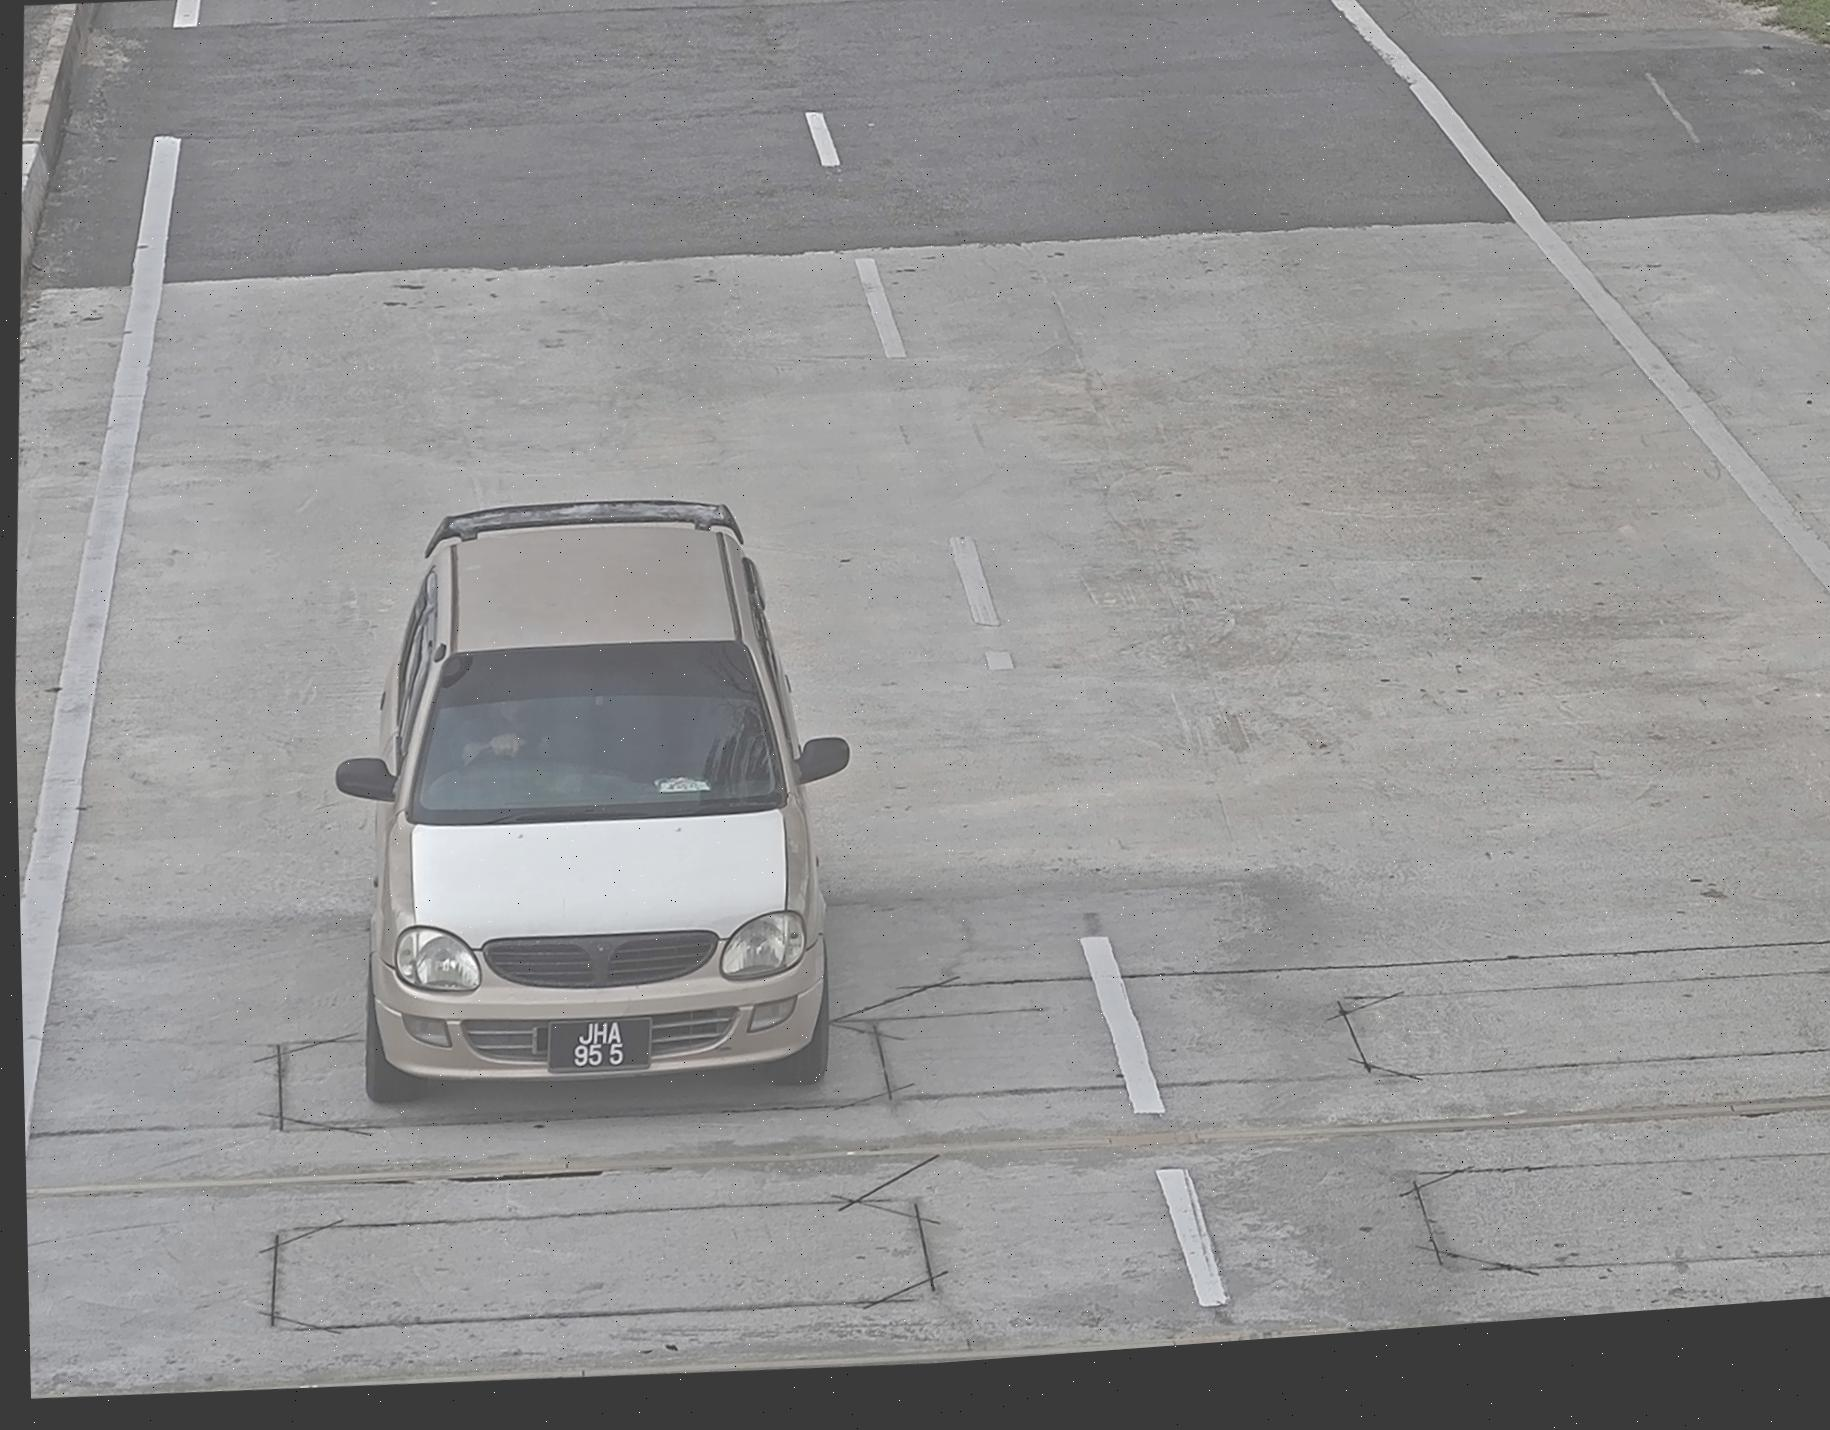broken: (550, 1016, 652, 1077)
